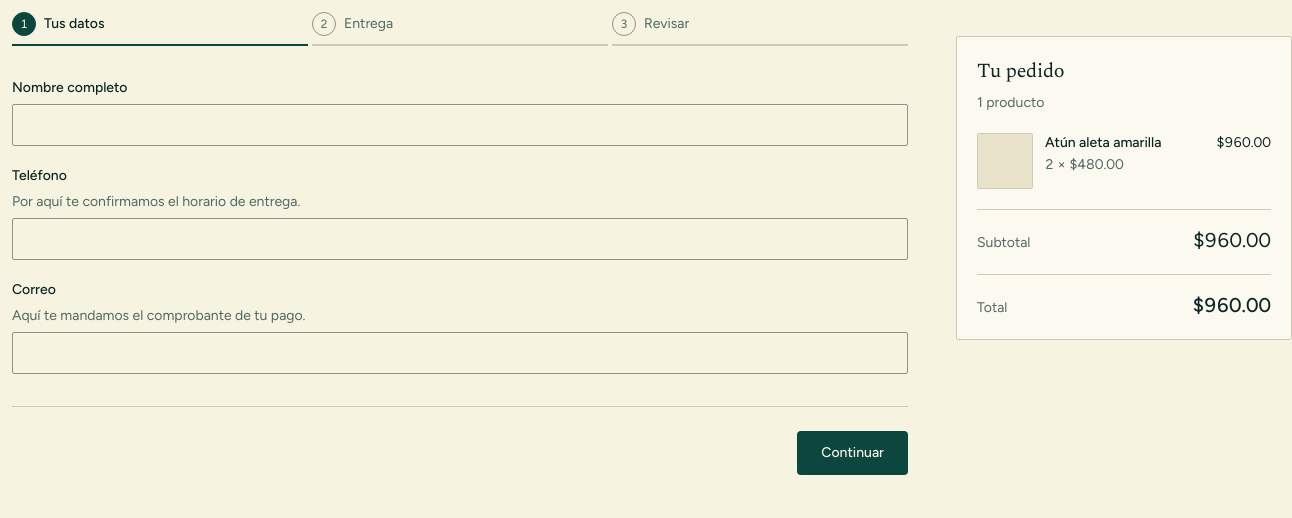
Test: avanzar entre pasos › rechaza un correo con forma inservible
Type "Ana Torres" into the field labelled "Nombre completo".
click(460, 125); type("Ana Torres")  # box [12, 104, 908, 146]
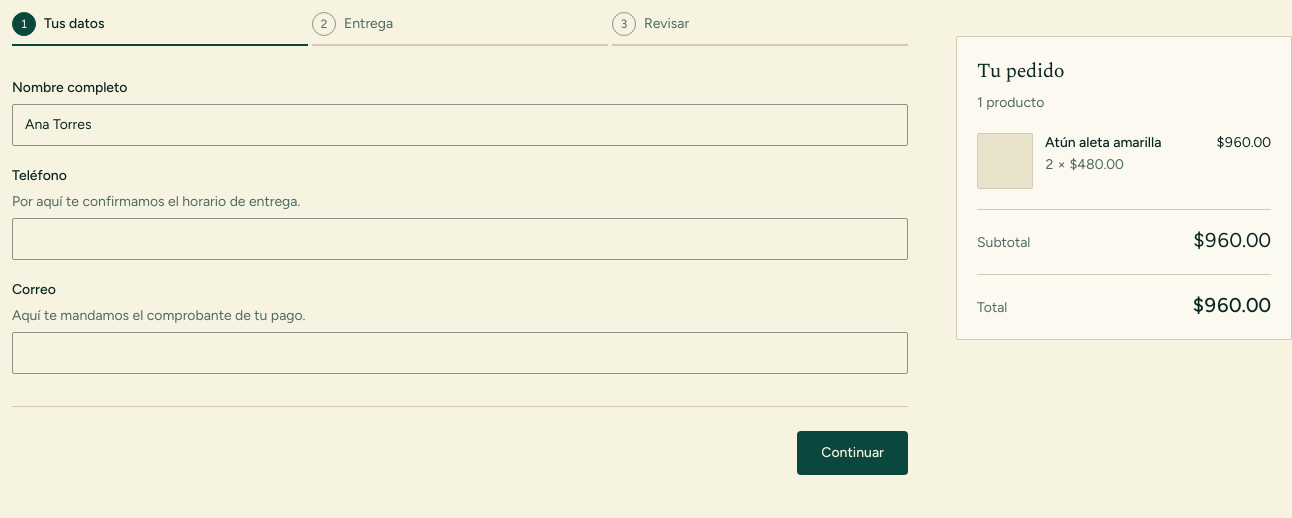
Type "8112345678" into the field labelled "Teléfono".
click(460, 239); type("8112345678")  # box [12, 218, 908, 260]
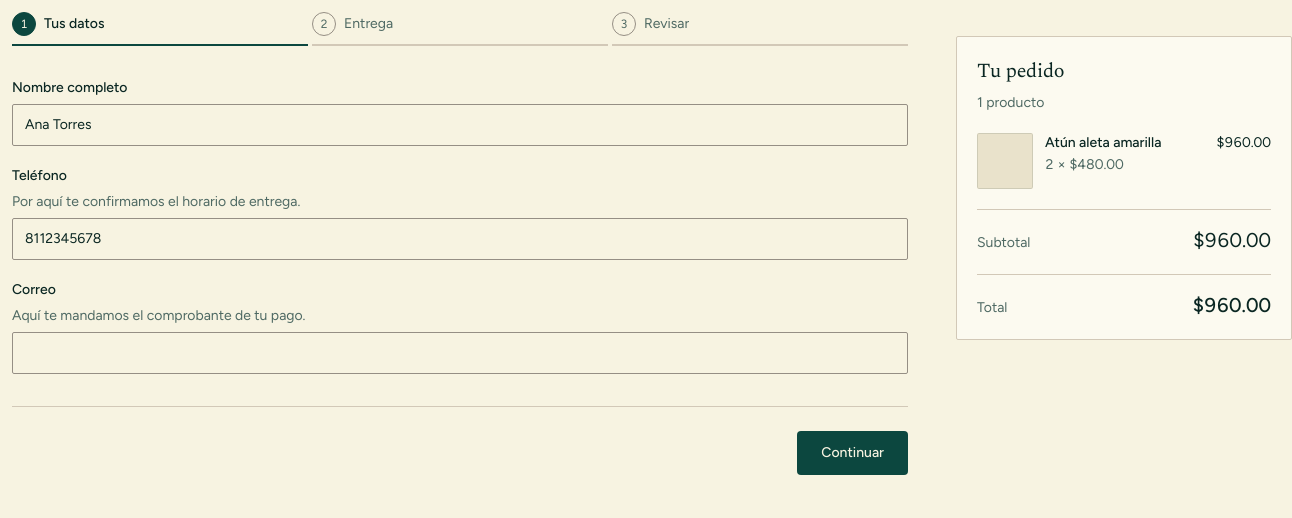
Type "ana@" into the field labelled "Correo".
click(460, 353); type("ana@")  # box [12, 332, 908, 374]
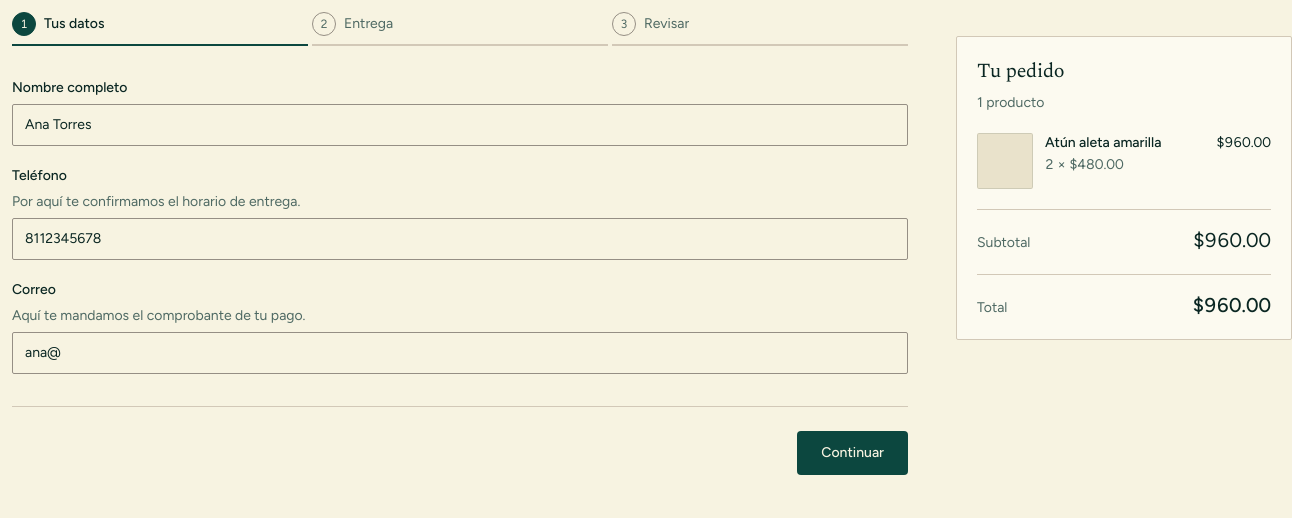
Click the button "Continuar".
click(853, 453)  # box [797, 431, 908, 475]
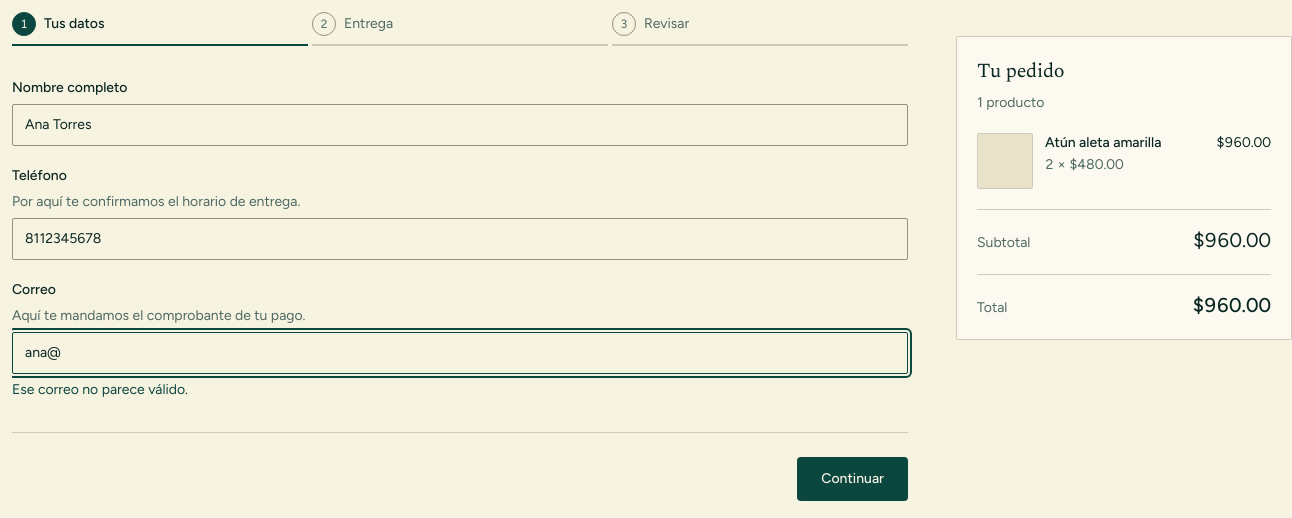
expect the text "Ese correo no parece válido." is shown: met, box [12, 381, 188, 398]
